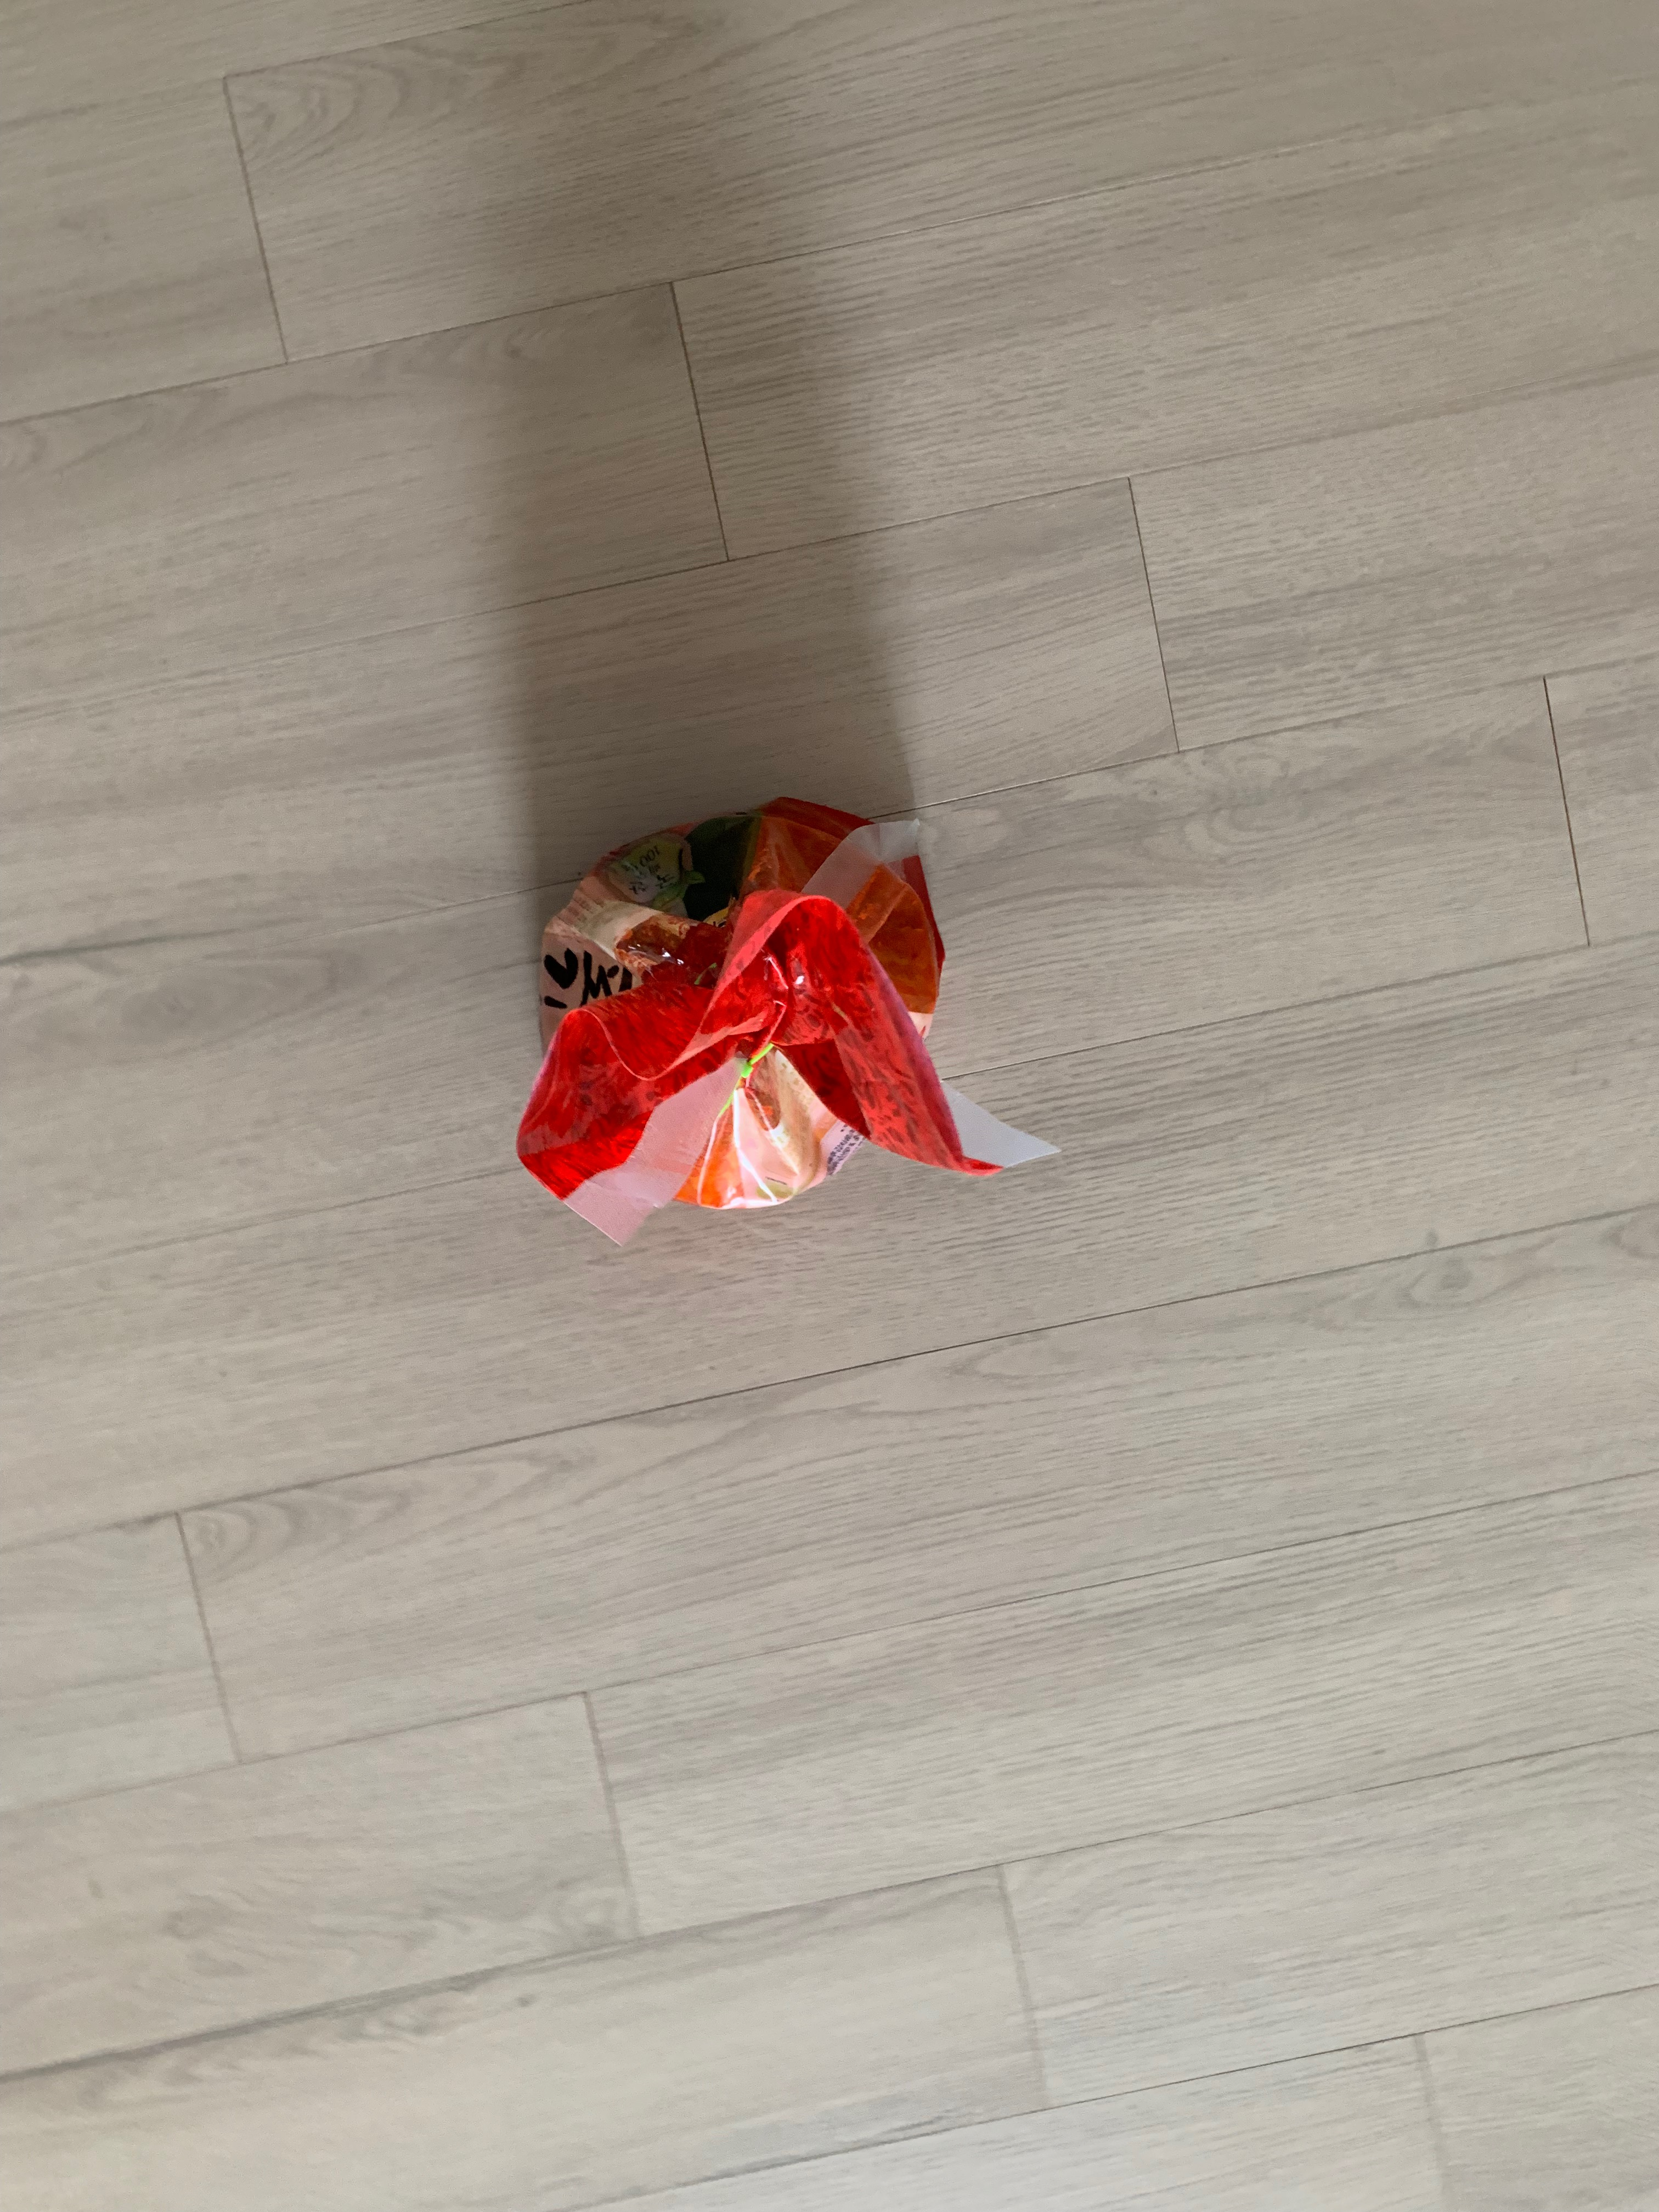kimchi: (511, 801, 962, 1212)
